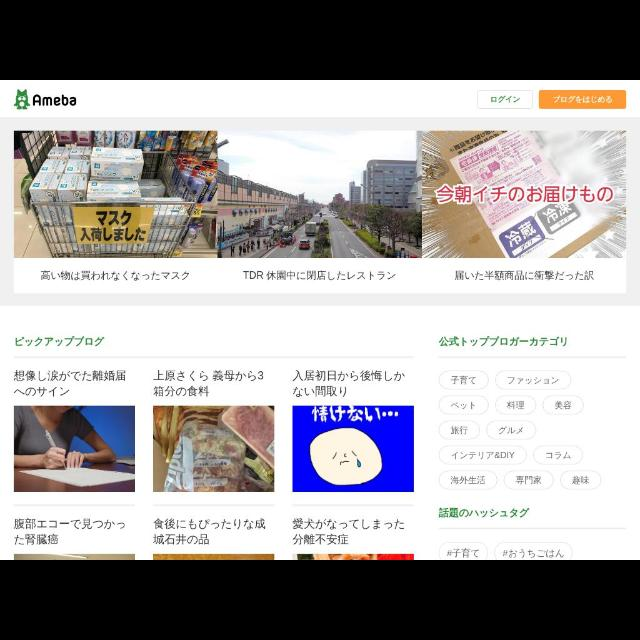image: (12, 130, 220, 258), (422, 130, 626, 258), (222, 129, 422, 257), (13, 404, 135, 492), (152, 406, 274, 492), (292, 406, 414, 490), (13, 88, 77, 110), (152, 552, 278, 560), (13, 552, 133, 560), (296, 553, 418, 559)
text: (291, 367, 407, 399), (12, 514, 126, 546), (13, 368, 129, 398), (152, 517, 268, 545), (152, 368, 266, 396), (293, 518, 407, 546), (438, 334, 568, 351), (242, 268, 398, 282), (39, 269, 191, 281), (454, 270, 596, 282), (438, 506, 532, 520), (13, 335, 105, 347), (502, 548, 564, 560), (452, 450, 516, 460), (553, 95, 613, 105), (507, 376, 559, 386), (446, 548, 479, 560), (450, 475, 486, 485), (514, 475, 542, 485), (450, 376, 476, 386), (450, 401, 476, 411), (498, 426, 524, 436), (546, 450, 570, 460), (491, 96, 521, 104), (554, 399, 572, 411), (506, 400, 524, 410), (450, 425, 468, 435), (572, 475, 590, 485)
textbutton: (539, 90, 627, 110), (439, 446, 527, 466), (495, 370, 573, 390), (476, 90, 534, 110), (438, 472, 498, 491), (487, 420, 538, 440), (439, 371, 489, 391), (504, 470, 554, 490), (438, 396, 490, 414), (534, 446, 584, 464), (560, 470, 602, 490), (542, 395, 584, 415), (440, 422, 480, 441), (495, 396, 537, 414)
toolbar: (1, 80, 639, 116)
